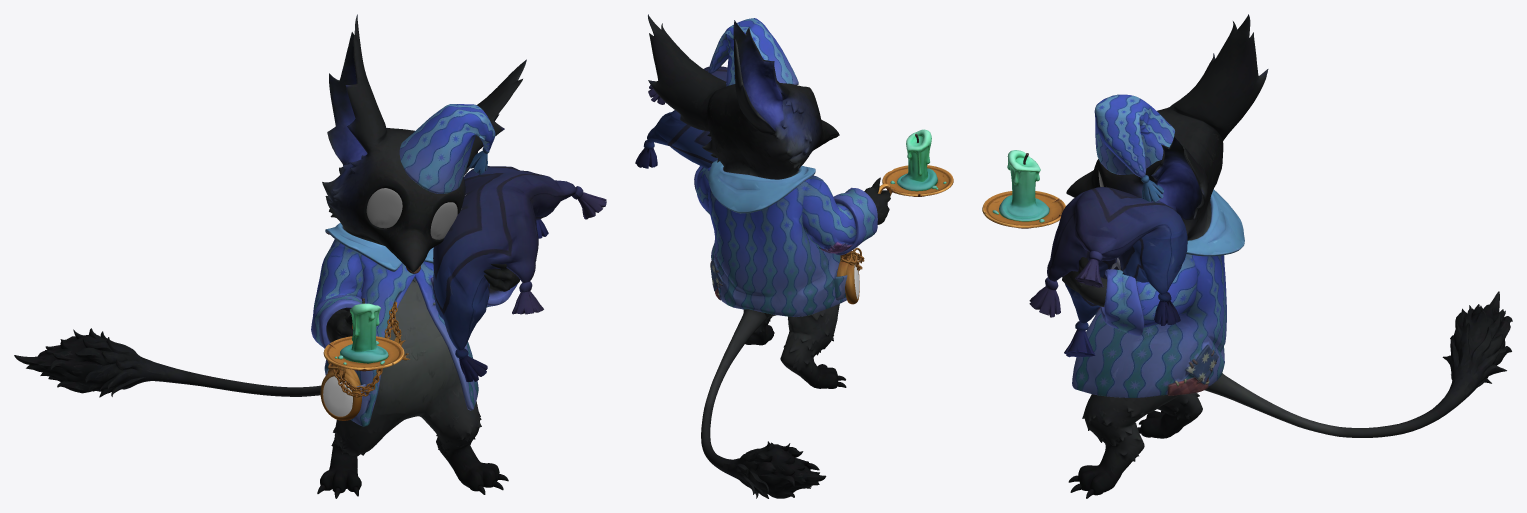
3 views of the same model, side by side, from view 1: azimuth 30°, elevation 25°; view 2: azimuth 150°, elevation 25°; view 3: azimuth 270°, elevation 25° (orthographic). The views are drawn at different scales.
Visible parts, largest first — view 1: models\heroes_wip\familiar\familiar_wip.vmdl_c.familiar, models\heroes_wip\familiar\familiar_wip.vmdl_c.8inf_clothes_ (×2), models\heroes_wip\familiar\familiar_wip.vmdl_c.head, models\heroes_wip\familiar\familiar_wip.vmdl_c.pillow, models\heroes_wip\familiar\familiar_wip.vmdl_c.weapon; view 2: models\heroes_wip\familiar\familiar_wip.vmdl_c.8inf_clothes_ (×2), models\heroes_wip\familiar\familiar_wip.vmdl_c.head, models\heroes_wip\familiar\familiar_wip.vmdl_c.familiar, models\heroes_wip\familiar\familiar_wip.vmdl_c.pillow, models\heroes_wip\familiar\familiar_wip.vmdl_c.weapon; view 3: models\heroes_wip\familiar\familiar_wip.vmdl_c.8inf_clothes_ (×2), models\heroes_wip\familiar\familiar_wip.vmdl_c.familiar, models\heroes_wip\familiar\familiar_wip.vmdl_c.pillow, models\heroes_wip\familiar\familiar_wip.vmdl_c.head, models\heroes_wip\familiar\familiar_wip.vmdl_c.weapon.
Boxes of the visible parts, <box> form: models\heroes_wip\familiar\familiar_wip.vmdl_c.familiar: <box>14,264,520,498</box>; models\heroes_wip\familiar\familiar_wip.vmdl_c.8inf_clothes_ (×2): <box>311,104,518,426</box>; models\heroes_wip\familiar\familiar_wip.vmdl_c.head: <box>322,14,526,272</box>; models\heroes_wip\familiar\familiar_wip.vmdl_c.pillow: <box>433,166,606,382</box>; models\heroes_wip\familiar\familiar_wip.vmdl_c.weapon: <box>323,298,404,371</box>; models\heroes_wip\familiar\familiar_wip.vmdl_c.8inf_clothes_ (×2): <box>694,18,877,316</box>; models\heroes_wip\familiar\familiar_wip.vmdl_c.head: <box>648,14,839,179</box>; models\heroes_wip\familiar\familiar_wip.vmdl_c.familiar: <box>701,177,890,498</box>; models\heroes_wip\familiar\familiar_wip.vmdl_c.pillow: <box>635,66,727,168</box>; models\heroes_wip\familiar\familiar_wip.vmdl_c.weapon: <box>878,129,953,196</box>; models\heroes_wip\familiar\familiar_wip.vmdl_c.8inf_clothes_ (×2): <box>1072,94,1244,397</box>; models\heroes_wip\familiar\familiar_wip.vmdl_c.familiar: <box>1062,257,1512,498</box>; models\heroes_wip\familiar\familiar_wip.vmdl_c.pillow: <box>1029,186,1187,357</box>; models\heroes_wip\familiar\familiar_wip.vmdl_c.head: <box>1066,14,1268,240</box>; models\heroes_wip\familiar\familiar_wip.vmdl_c.weapon: <box>982,150,1065,228</box>.
Size of the model in its own units: 1.67 by 1.74 by 1.86.
Materials: 6 (4 with a texture image).
